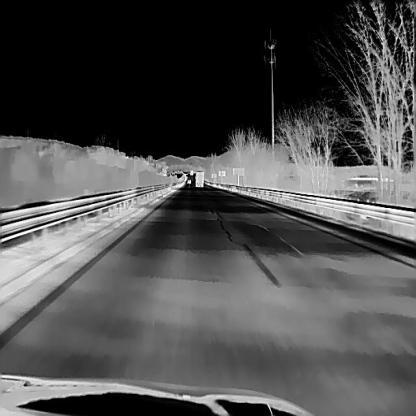car: (194, 170, 204, 186), (186, 176, 190, 183)
